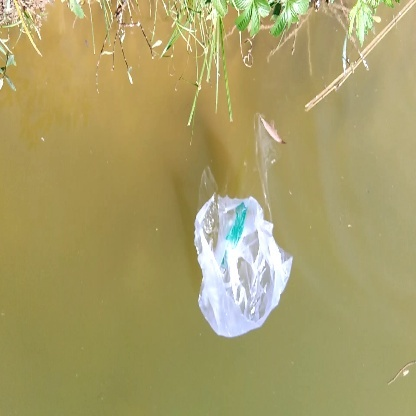plastic-bag: (187, 191, 298, 335)
